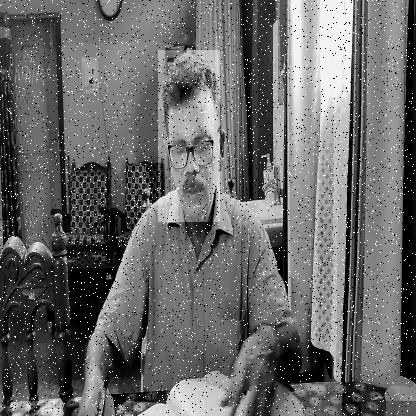Normal: (158, 50, 220, 222)
